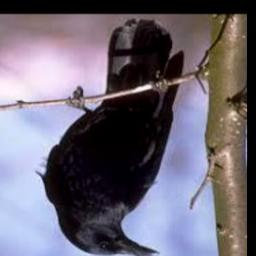Crow: (36, 19, 184, 256)
